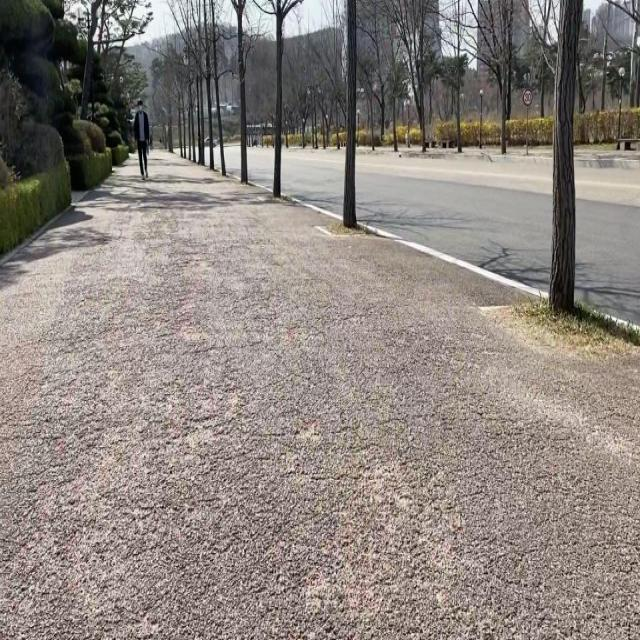sidewalk: (0, 148, 640, 637)
